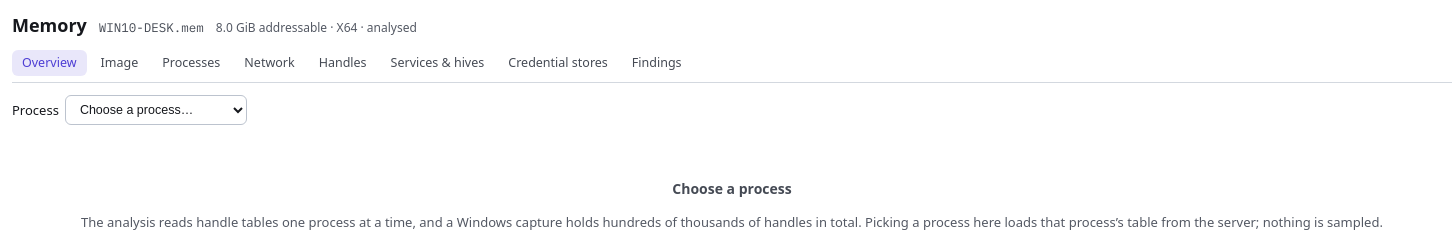
Test: MemoryHandlesPage › reports a handle walk that did not run rather than a process that held nothing
Select "System (4) · 340 handles" in the dropdown labelled "Process" at (156, 110), box [65,95,247,125]
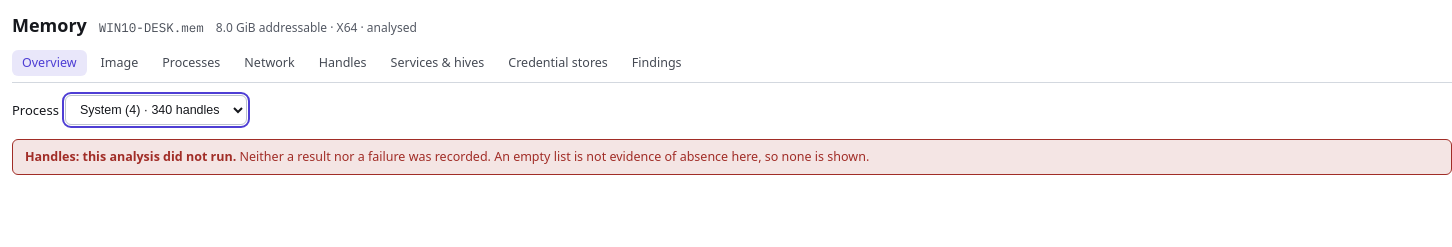
Expected: the text "Handles: this analysis did not run." is shown, [25,148,236,165]
